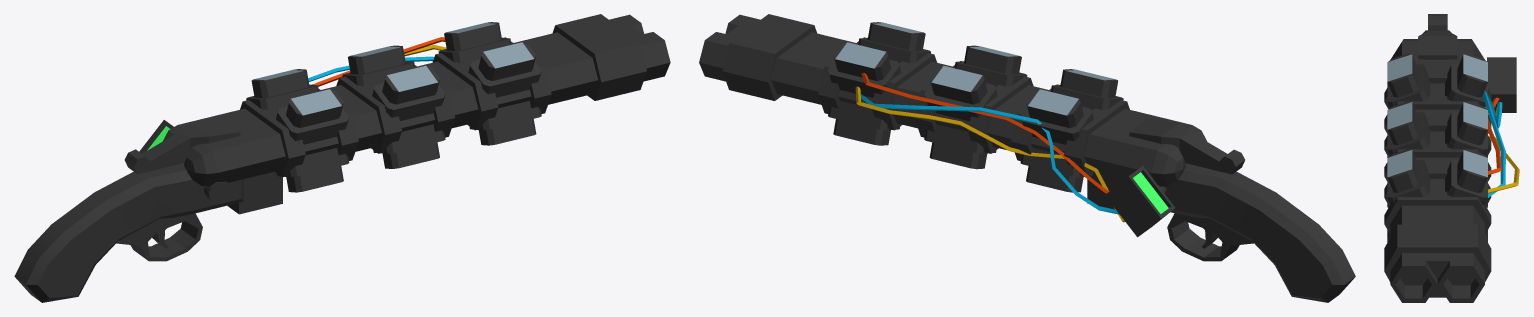
Rendered from Sci-Fi Shotgun.glb.
3 renders of one model, left to right at view 1: azimuth 30°, elevation 25°; view 2: azimuth 150°, elevation 25°; view 3: azimuth 270°, elevation 25°, orthographic.
Parts seen in each view (by area): view 1: barrel, handle, wires, prop; view 2: barrel, handle, wires, prop; view 3: barrel, handle, prop, wires.
Boxes of the visible parts, x1,y1,x2,y2 form: barrel: (214,14,670,214); handle: (14,116,254,302); wires: (308,37,446,86); prop: (139,120,230,203); barrel: (699,14,1155,209); handle: (1115,116,1355,302); wires: (855,72,1124,222); prop: (1105,166,1175,237); barrel: (1384,53,1491,302); handle: (1390,14,1484,59); prop: (1487,57,1516,112); wires: (1482,91,1519,197).
Bounding box in the file's own units: 0.7544 × 0.1757 × 0.1387.
